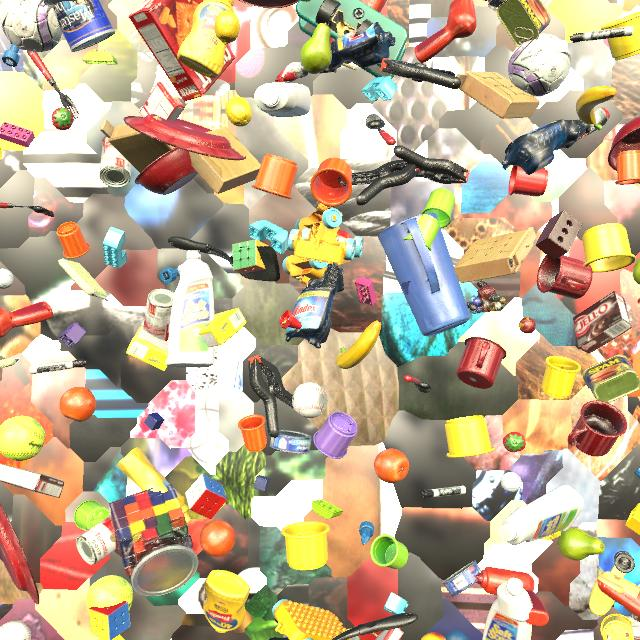ycb_002_master_chef_can: (52, 0, 115, 52)
ycb_003_cracker_box: (128, 0, 235, 102)
ycb_004_sugar_box: (167, 308, 247, 347), (126, 319, 168, 371)
ycb_005_tomato_soup_can: (76, 516, 118, 565), (99, 136, 132, 188), (143, 289, 174, 341), (43, 0, 77, 8), (488, 0, 506, 10)
ycb_006_mustard_bottle: (118, 447, 191, 523), (177, 0, 236, 79), (203, 570, 250, 633)
ycb_007_tuna_fish_can: (443, 561, 482, 596), (270, 430, 312, 454)
ycb_008_pudding_box: (573, 291, 632, 354), (0, 463, 64, 498), (606, 615, 640, 640)
ycb_009_gelatin_box: (140, 82, 185, 122), (375, 628, 404, 640)
ycb_010_potted_meat_can: (582, 354, 640, 403), (497, 0, 551, 47)
ycb_011_banana: (336, 321, 381, 369), (576, 86, 617, 131)
ycb_012_strawberry: (52, 107, 74, 130), (503, 432, 526, 452)
ycb_014_lemon: (214, 10, 240, 45), (225, 97, 252, 127)
ycb_015_peach: (421, 632, 446, 640)
ycb_016_pear: (300, 23, 332, 74), (558, 528, 605, 560), (632, 258, 640, 285)
ycb_017_orange: (200, 520, 235, 557), (59, 387, 96, 422), (374, 449, 409, 483)
ycb_018_plum: (638, 183, 640, 184)
